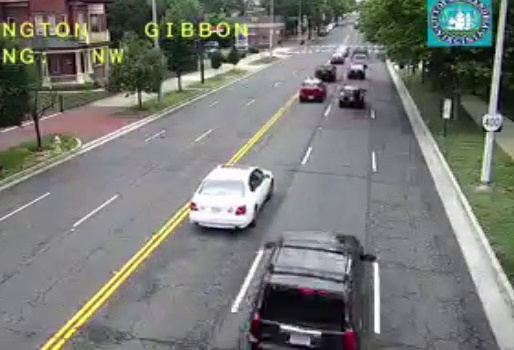car: (244, 230, 364, 350), (188, 166, 273, 229), (298, 79, 324, 102), (338, 87, 362, 107), (314, 65, 335, 83), (347, 64, 366, 79)
